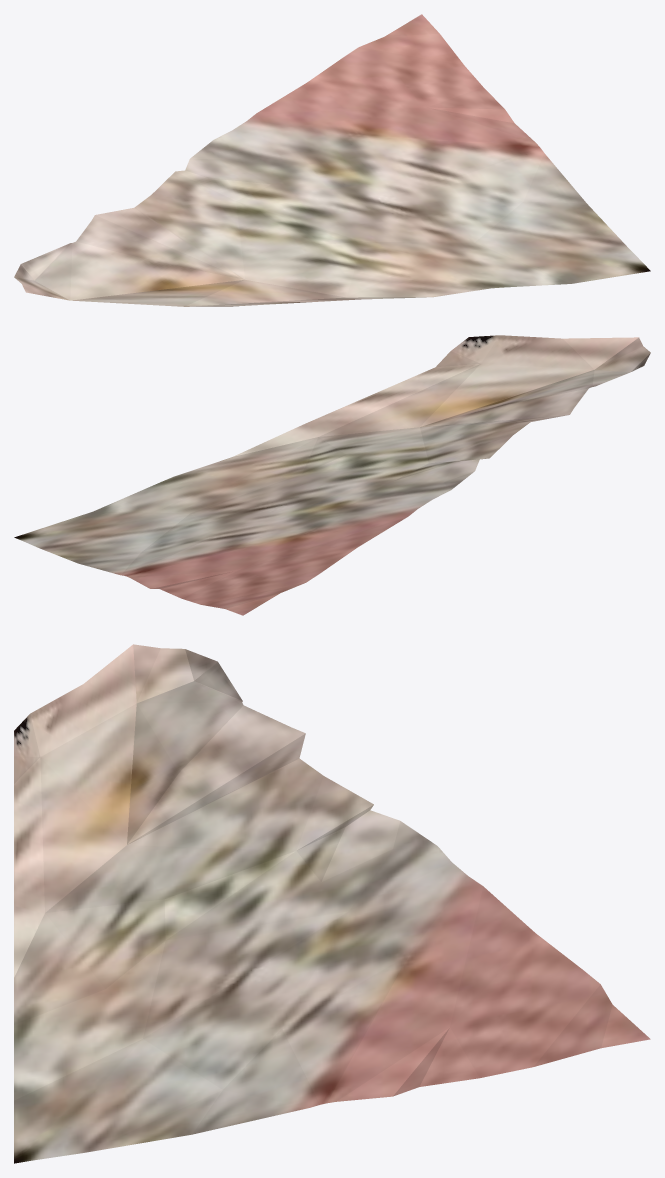
3 views of the same model, one above another, from view 1: azimuth 30°, elevation 25°; view 2: azimuth 210°, elevation 25°; view 3: azimuth 270°, elevation 25° (orthographic). The views are drawn at different scales.
Bounding box in the file's own units: 3.2 × 0.4689 × 2.18.
1 material, 1 textured.
